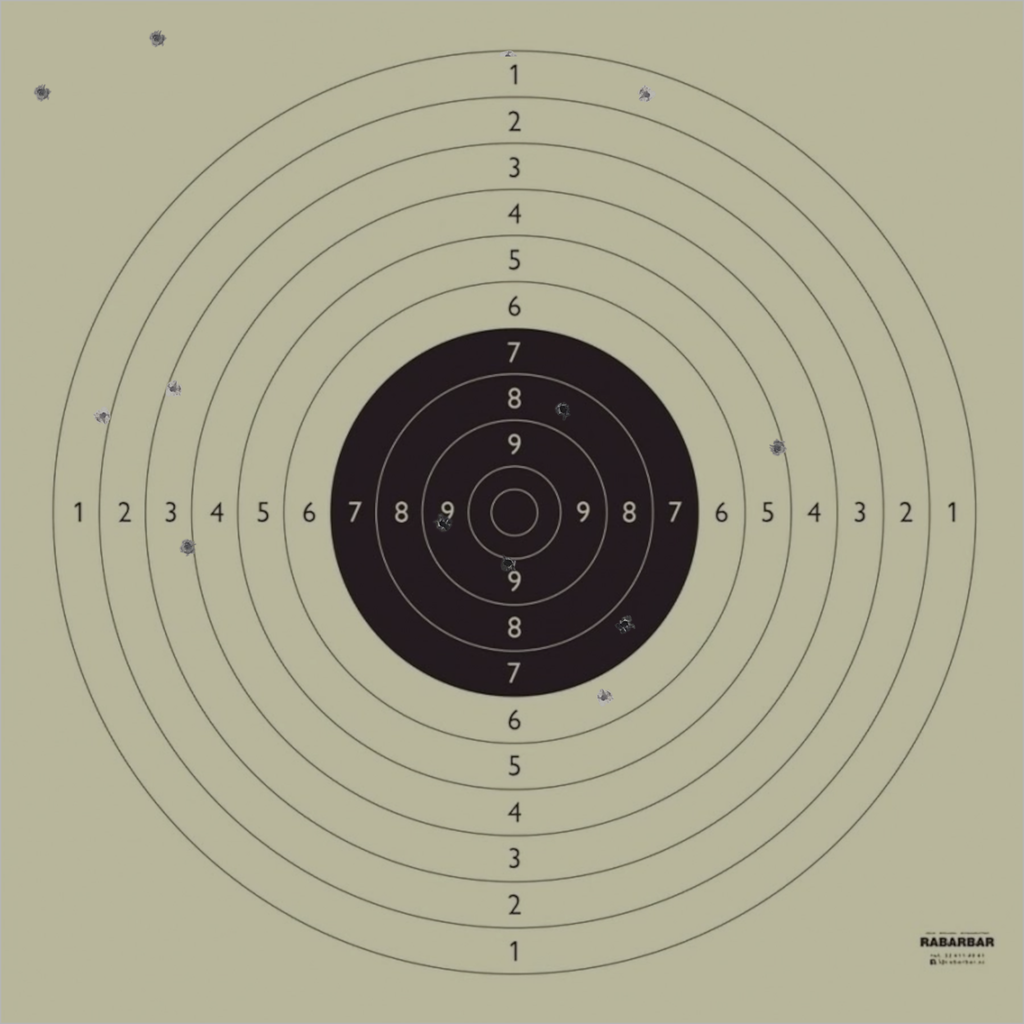0 punktow: (32, 83, 51, 102)
1 punkt: (637, 86, 656, 104)
10 punktow: (499, 554, 518, 572)
2 punkty: (94, 407, 112, 425)
3 punkty: (164, 380, 183, 398)
4 punkty: (179, 537, 197, 556)
5 punktow: (768, 439, 787, 458)
6 punktow: (595, 688, 613, 706)
7 punktow: (615, 615, 634, 634)
8 punktow: (554, 401, 572, 419)
9 punktow: (433, 514, 452, 533)
